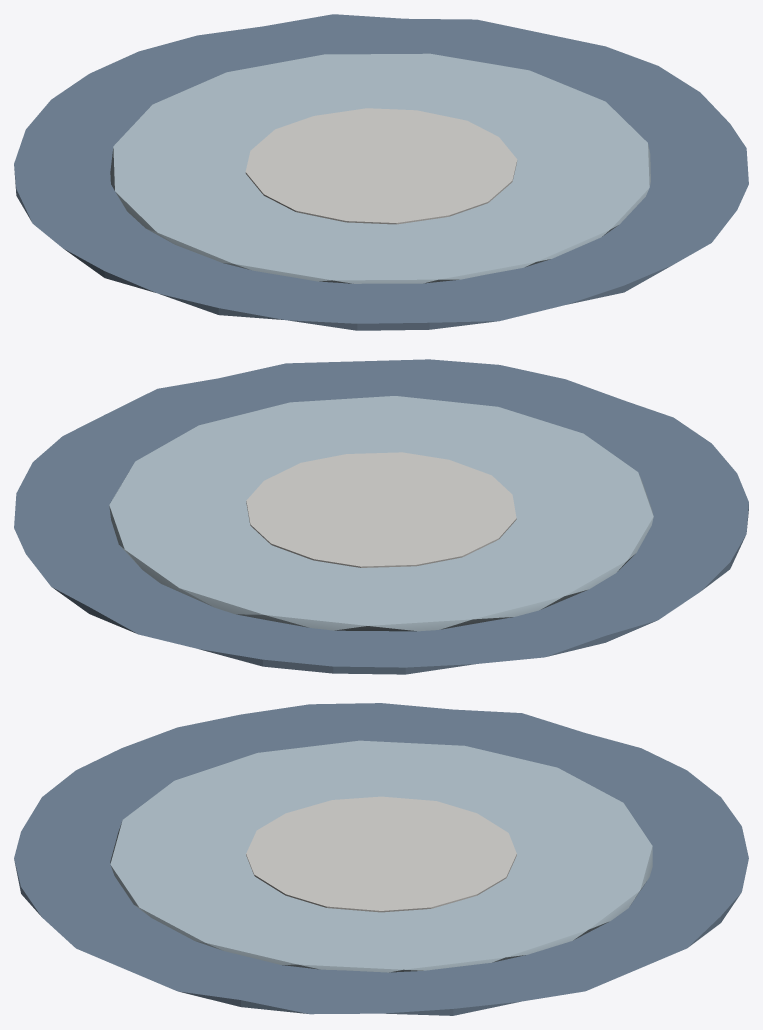
File: furn_rug_round__navy_low.glb
3 views of the same model, one above another, from view 1: azimuth 30°, elevation 25°; view 2: azimuth 150°, elevation 25°; view 3: azimuth 270°, elevation 25° (orthographic).
Bounding box in the file's own units: 1.9 × 0.028 × 1.9.
